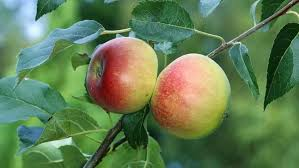tao: (155, 40, 239, 144), (87, 25, 154, 123)
